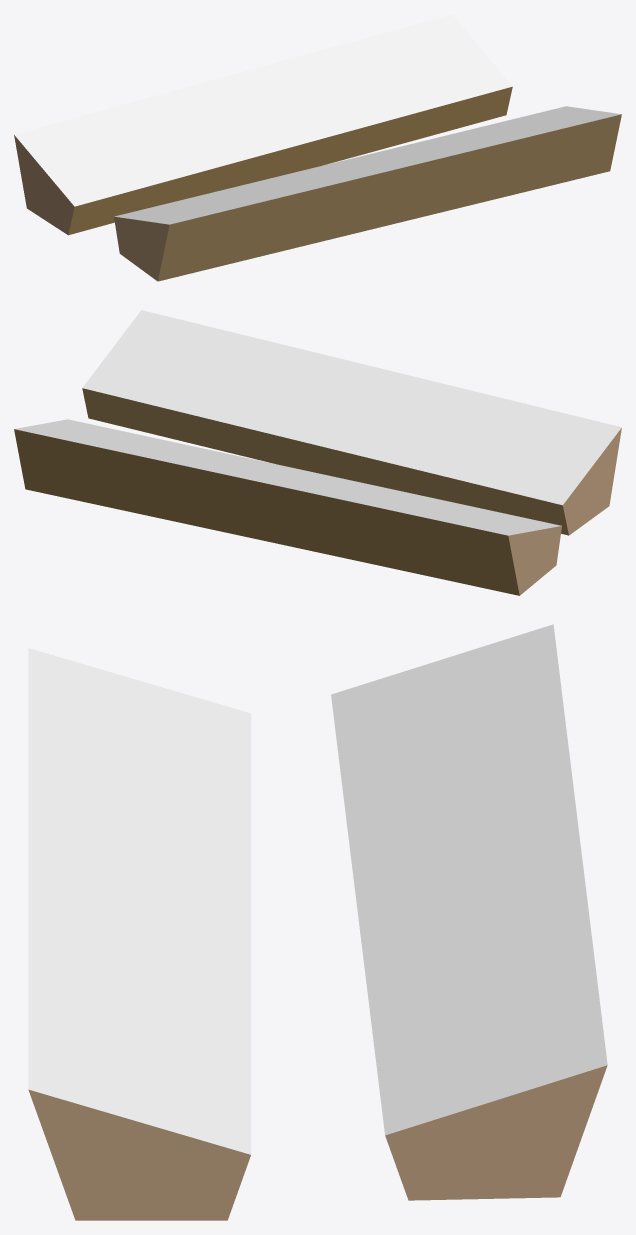
Rendered from Simple_Firewood_Snow_06.fbx.
The picture shows the model from 3 angles, top to bottom: view 1: azimuth 30°, elevation 25°; view 2: azimuth 150°, elevation 25°; view 3: azimuth 270°, elevation 25°; orthographic projection. The views are drawn at different scales.
Parts seen in each view (by area): view 1: Simple_Firewood_Snow_06; view 2: Simple_Firewood_Snow_06; view 3: Simple_Firewood_Snow_06.
Part boxes in pixels (x1=…): Simple_Firewood_Snow_06: x1=14, y1=14, x2=621, y2=281; Simple_Firewood_Snow_06: x1=14, y1=310, x2=621, y2=595; Simple_Firewood_Snow_06: x1=28, y1=624, x2=607, y2=1220.
Size of the model in its own units: 59.01 by 7.76 by 31.06.
